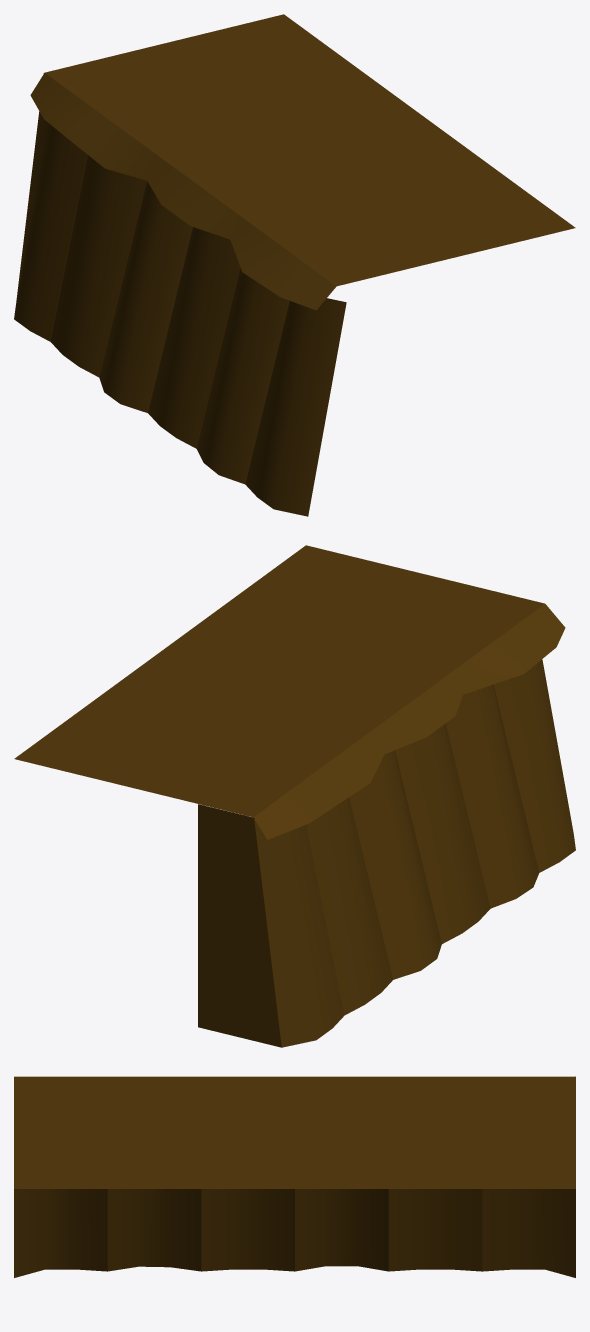
The model's file is Cliff.FBX.
3 views of the same model, one above another, from view 1: azimuth 30°, elevation 25°; view 2: azimuth 150°, elevation 25°; view 3: azimuth 270°, elevation 25° (orthographic). The views are drawn at different scales.
Visible parts, largest first — view 1: Box029; view 2: Box029; view 3: Box029.
Part boxes in pixels (x1,y1,x2,y2): Box029: [14, 14, 575, 516]; Box029: [14, 545, 575, 1047]; Box029: [14, 1076, 575, 1277].
Bounding box in the file's own units: 357 × 259 × 615.
